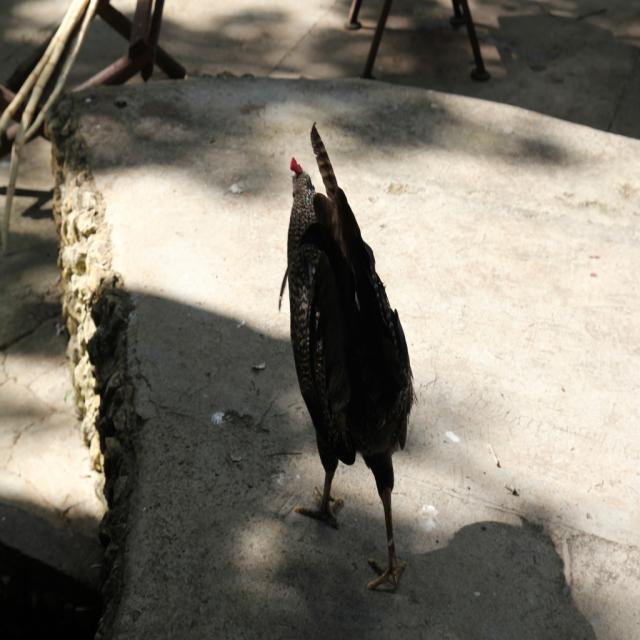Chicken: (276, 129, 417, 580)
